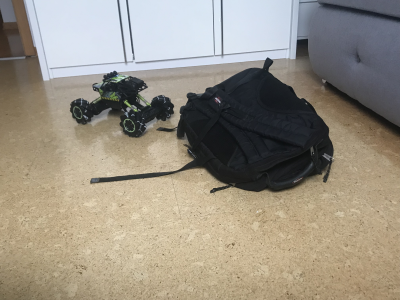remote control car: (69, 68, 176, 138)
